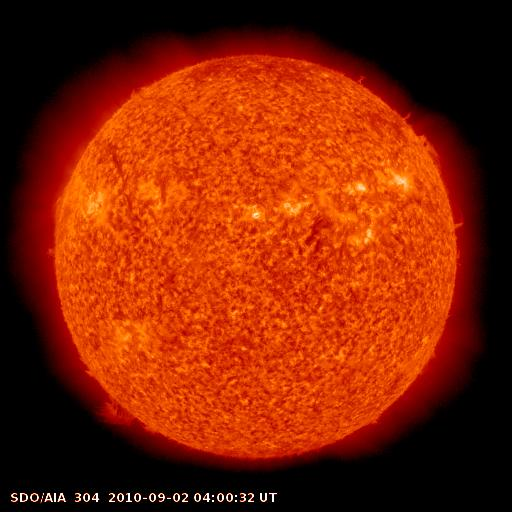prominence: (89, 386, 166, 443), (412, 127, 450, 182), (438, 192, 474, 239)
